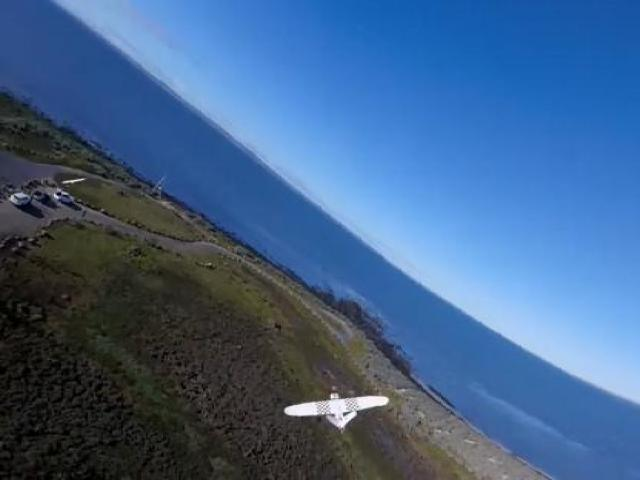uav: (282, 388, 390, 432)
